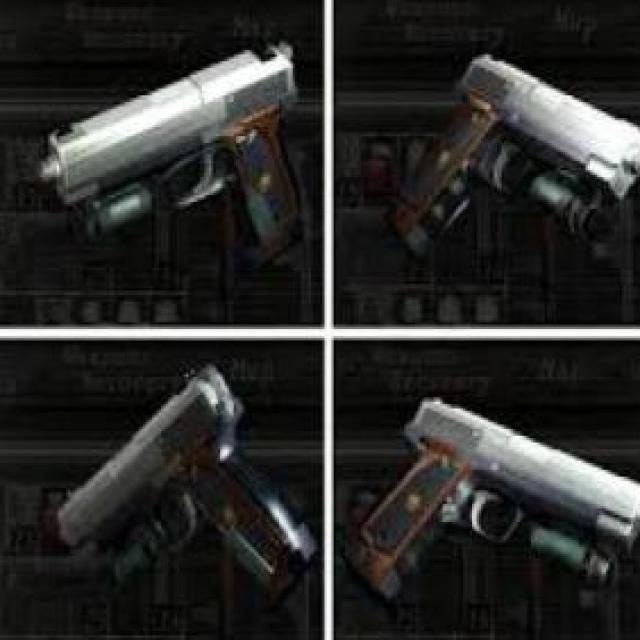pistol: (54, 356, 314, 622), (38, 36, 316, 274), (345, 395, 640, 597), (379, 52, 640, 270)
